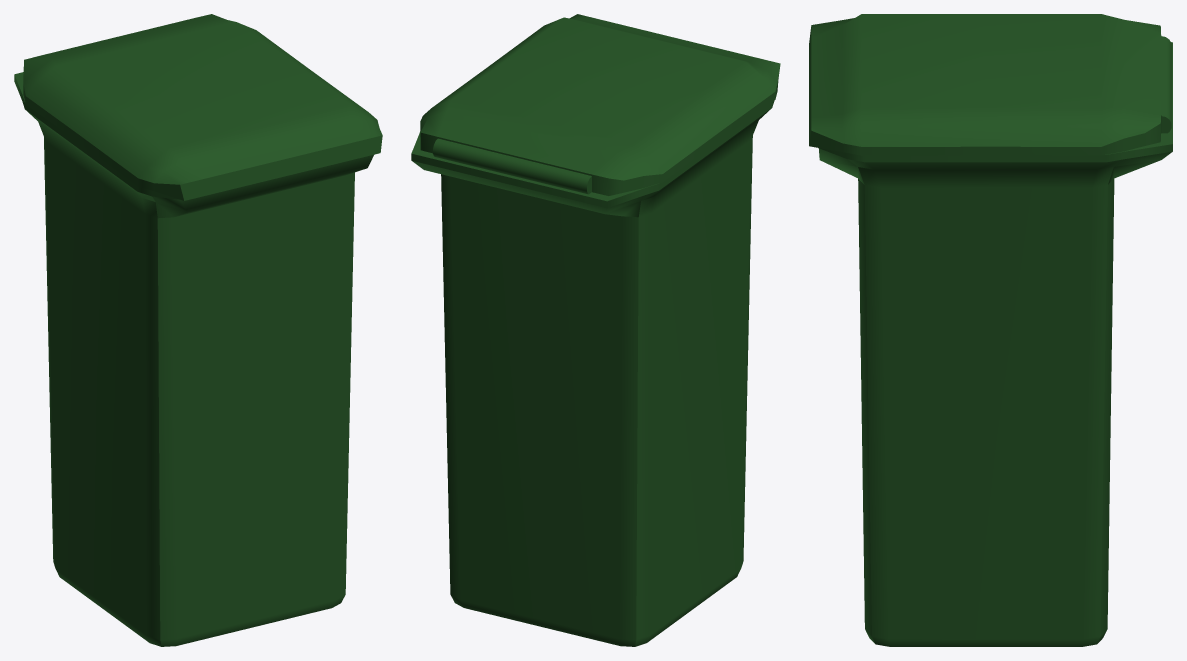
File: Recycle_Racer_PlasticGarbageCan1.fbx
The picture shows the model from 3 angles, left to right: view 1: azimuth 30°, elevation 25°; view 2: azimuth 150°, elevation 25°; view 3: azimuth 270°, elevation 25°; orthographic projection. The views are drawn at different scales.
Parts seen in each view (by area): view 1: polySurface94; view 2: polySurface94; view 3: polySurface94.
Boxes of the visible parts, x1=… form: polySurface94: x1=14, y1=14, x2=382, y2=646; polySurface94: x1=411, y1=14, x2=780, y2=646; polySurface94: x1=809, y1=14, x2=1172, y2=646.
Size of the model in its own units: 1.22 by 2.46 by 1.5.
